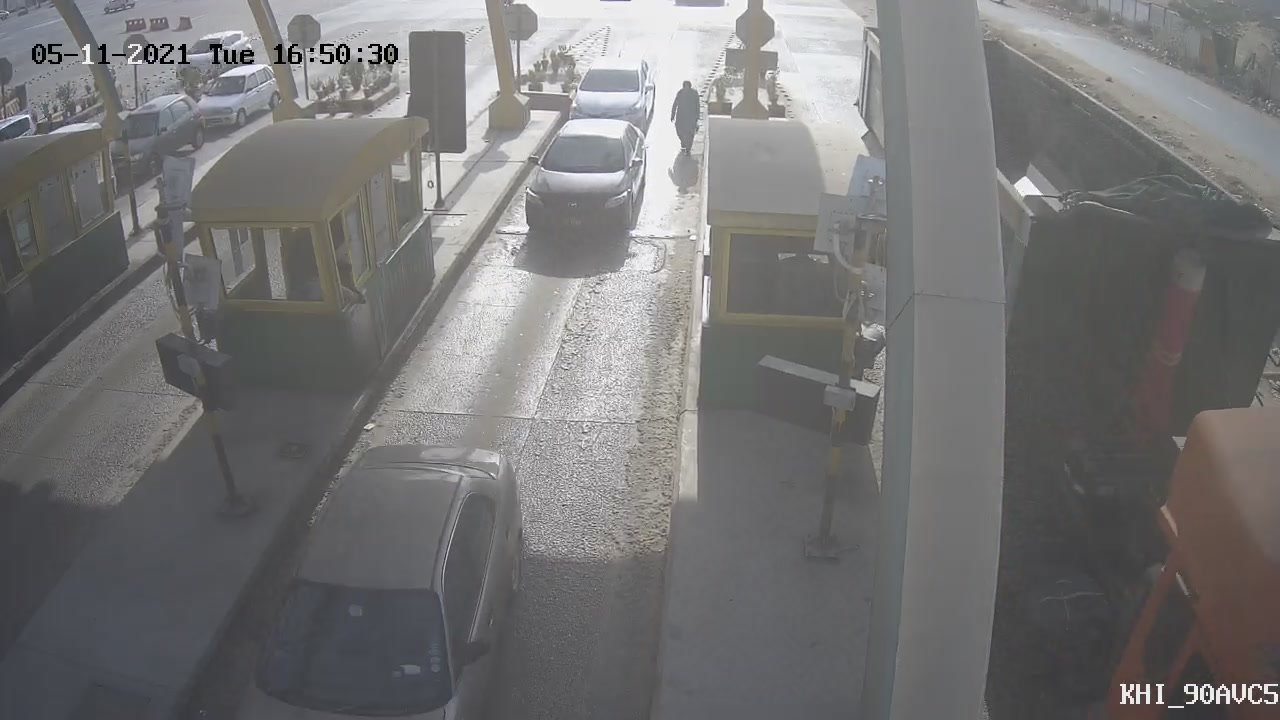F1: (504, 108, 665, 261), (553, 43, 670, 151)
